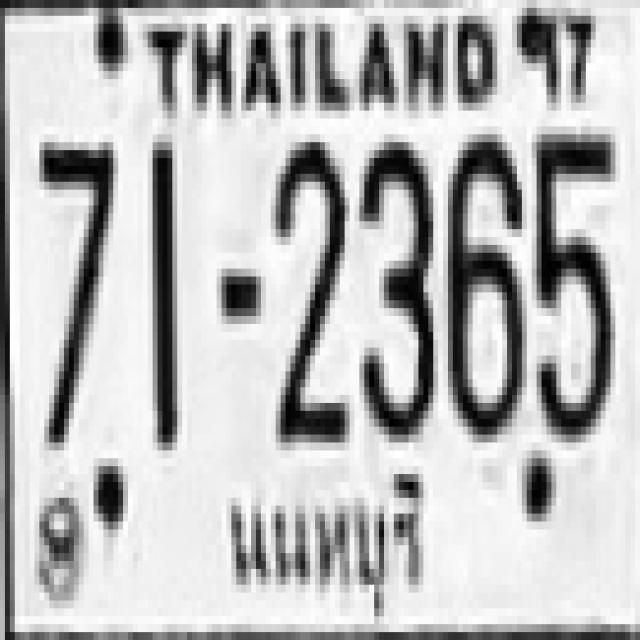1: (150, 138, 175, 446)
2: (270, 138, 344, 438)
3: (357, 134, 431, 434)
5: (532, 126, 610, 434)
6: (446, 126, 520, 434)
7: (34, 134, 114, 442), (34, 130, 114, 399)
Nonthaburi: (214, 458, 440, 618)
